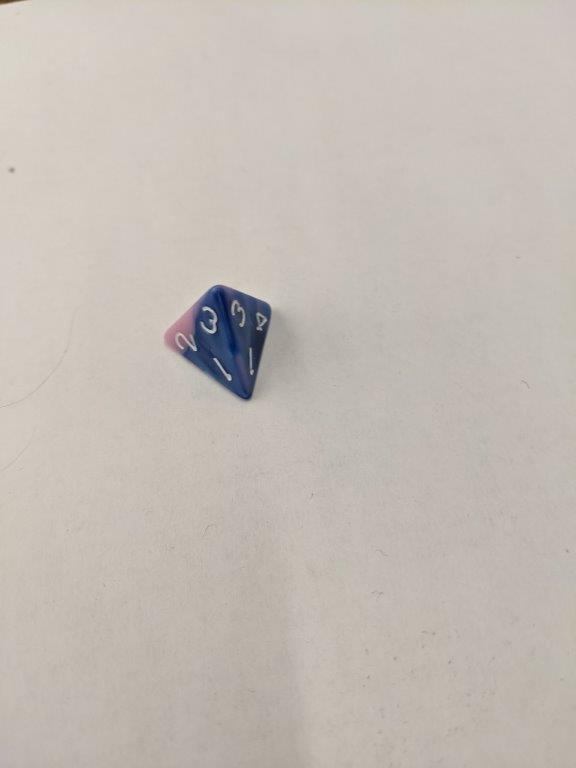d4-3: (161, 276, 275, 400)
